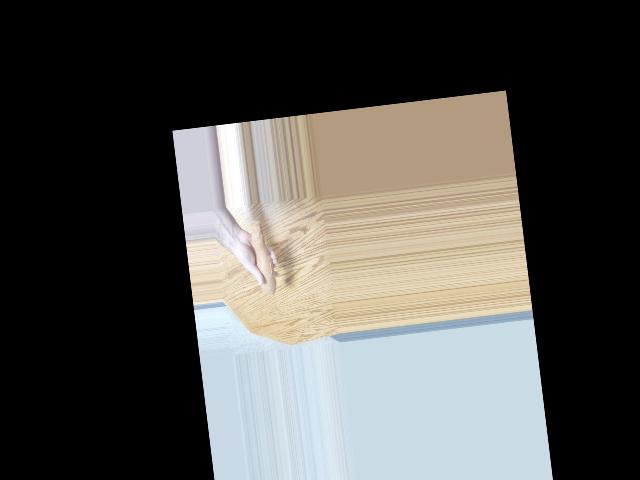sweet_potato: (245, 217, 277, 301)
